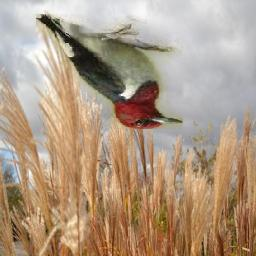Woodpecker: (37, 15, 184, 130)
